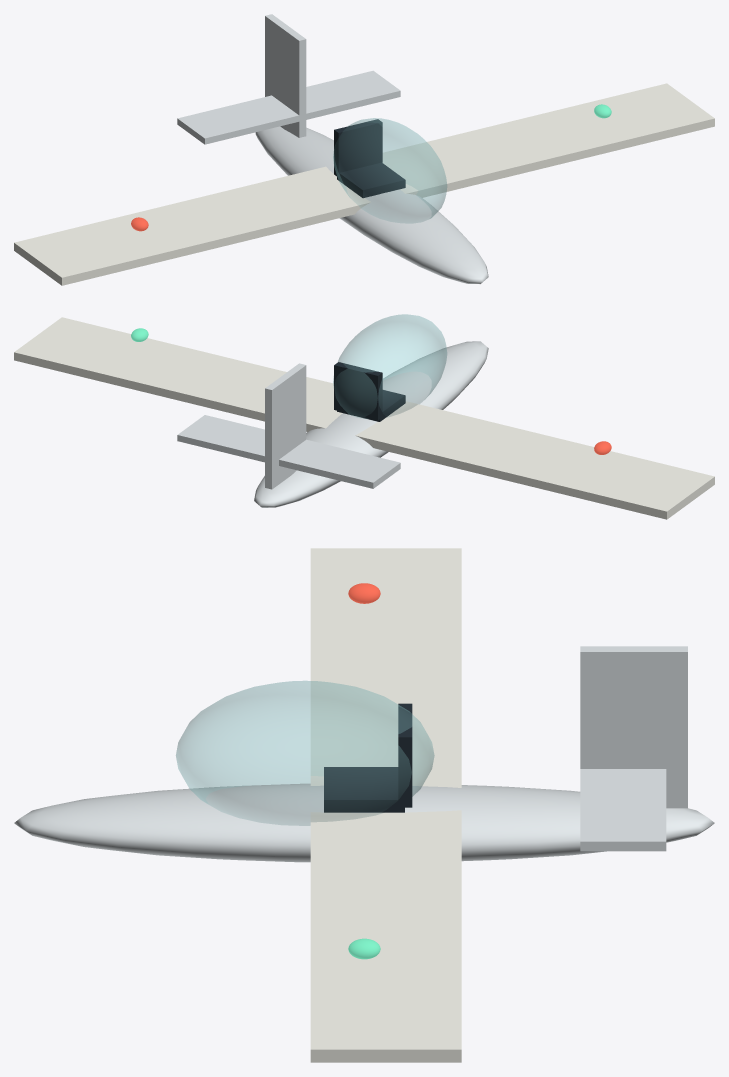
The model's file is glider.glb.
3 views of the same model, one above another, from view 1: azimuth 30°, elevation 25°; view 2: azimuth 150°, elevation 25°; view 3: azimuth 270°, elevation 25° (orthographic). The views are drawn at different scales.
Parts seen in each view (by area): view 1: glider; view 2: glider; view 3: glider.
Part boxes in pixels (left/top/right/bottom): glider: left=14, top=14, right=714, bottom=285; glider: left=14, top=314, right=714, bottom=519; glider: left=14, top=548, right=714, bottom=1062.
Size of the model in its own units: 11 by 2.06 by 6.5.
